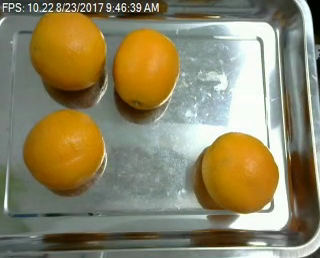Orange: (22, 109, 106, 187), (201, 132, 281, 213), (29, 10, 106, 89), (113, 29, 181, 110)
